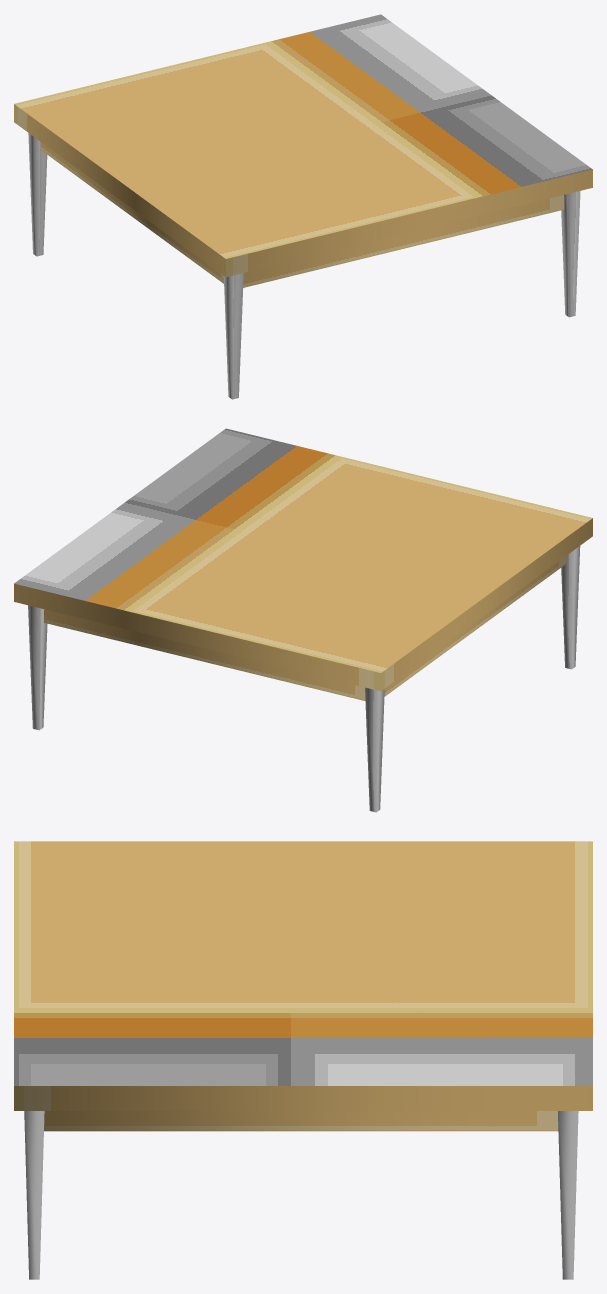
3 views of the same model, one above another, from view 1: azimuth 30°, elevation 25°; view 2: azimuth 150°, elevation 25°; view 3: azimuth 270°, elevation 25° (orthographic). The views are drawn at different scales.
Parts seen in each view (by area): view 1: 3616kg_27_ta0; view 2: 3616kg_27_ta0; view 3: 3616kg_27_ta0.
Part boxes in pixels (box(x1,y1,x2,y2)): 3616kg_27_ta0: box(14, 14, 592, 399); 3616kg_27_ta0: box(14, 428, 592, 812); 3616kg_27_ta0: box(14, 841, 592, 1279).
Bounding box in the file's own units: 1.95 × 0.75 × 1.95.
Materials: 1 (1 with a texture image).
